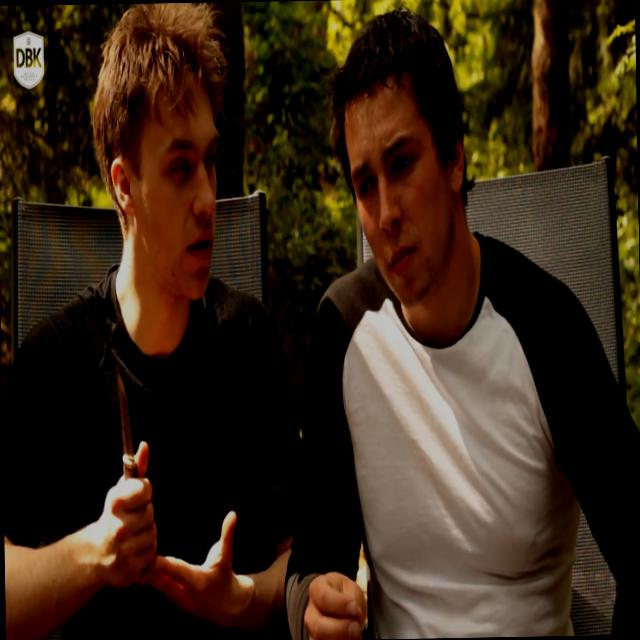knife: (96, 354, 162, 562)
